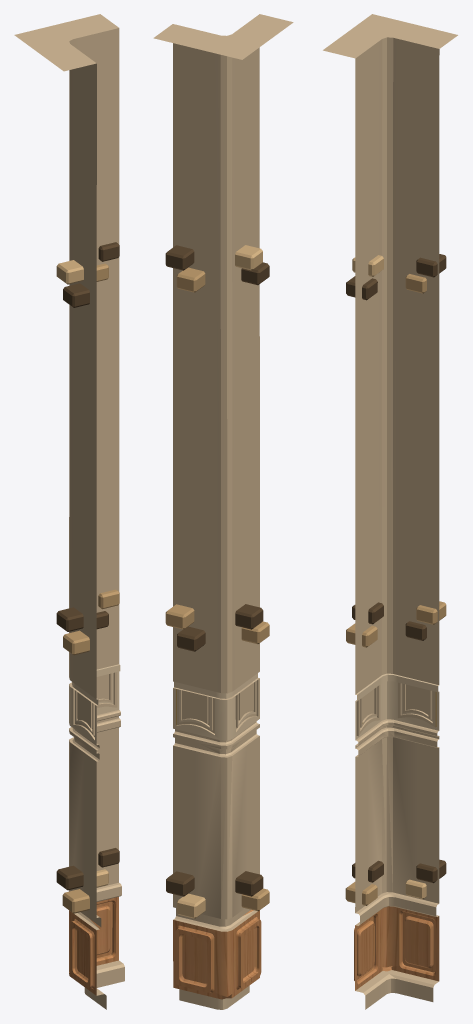
The model's file is Wall 5 left.fbx.
The picture shows the model from 3 angles, left to right: view 1: azimuth 30°, elevation 25°; view 2: azimuth 150°, elevation 25°; view 3: azimuth 330°, elevation 25°; orthographic projection. The views are drawn at different scales.
Visible parts, largest first — view 1: Wall 5; view 2: Wall 5; view 3: Wall 5.
Boxes of the visible parts, box(x1,y1,x2,y2) form: Wall 5: box(14, 14, 124, 1009); Wall 5: box(153, 14, 293, 1009); Wall 5: box(323, 14, 457, 1009).
Size of the model in its own units: 200 by 2102 by 200.
